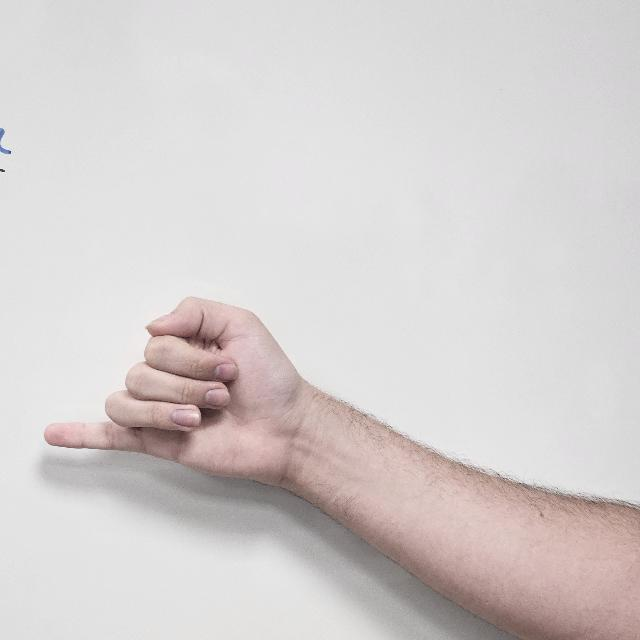Esquerda: (42, 260, 306, 538)
